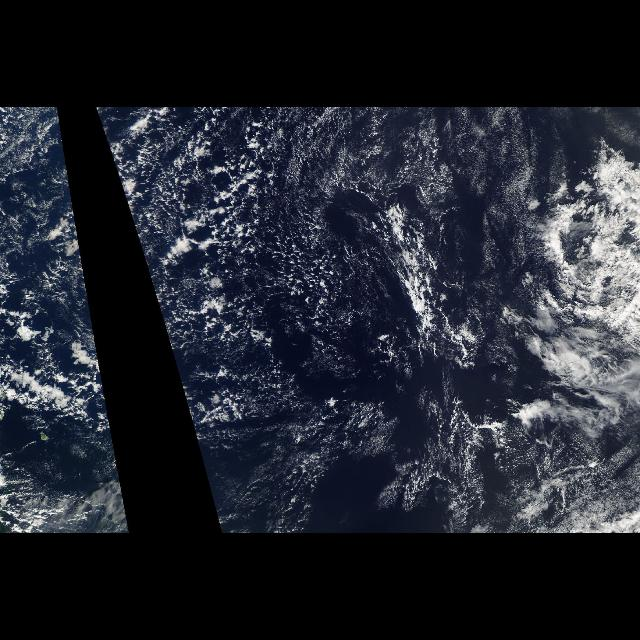Gravel: (95, 107, 529, 527), (2, 110, 130, 528)
Sugar: (456, 108, 540, 266)
